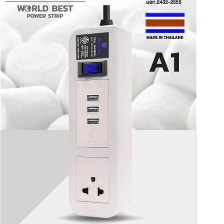three_eye_plug: (64, 21, 133, 220)
